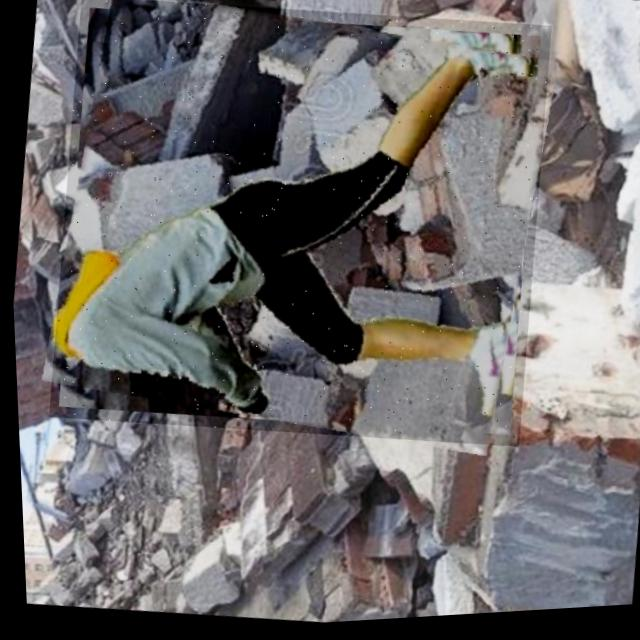Person in Rubble: (30, 0, 566, 473)
